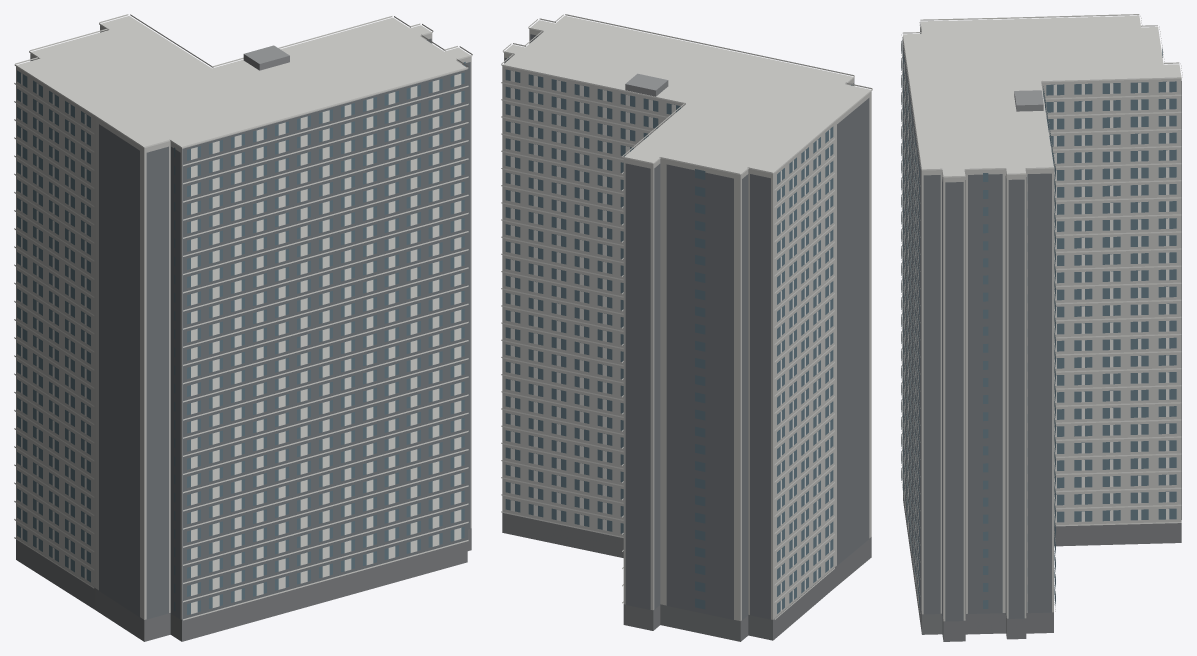
Rendered from representative-a10023352.glb.
3 renders of one model, left to right at view 1: azimuth 30°, elevation 25°; view 2: azimuth 150°, elevation 25°; view 3: azimuth 270°, elevation 25°, orthographic. The views are drawn at different scales.
Visible parts, largest first — view 1: A10023352_accent001, A10023352_wall001, A10023352_trim001, A10023352_glass001, A10023352_base001, A10023352_roof001; view 2: A10023352_wall001, A10023352_accent001, A10023352_glass001, A10023352_trim001, A10023352_base001, A10023352_roof001; view 3: A10023352_wall001, A10023352_accent001, A10023352_glass001, A10023352_trim001, A10023352_base001, A10023352_roof001.
Part boxes in pixels (x1=…): A10023352_accent001: x1=30, y1=31, x2=470, y2=619; A10023352_wall001: x1=16, y1=16, x2=471, y2=619; A10023352_trim001: x1=14, y1=14, x2=472, y2=620; A10023352_glass001: x1=17, y1=62, x2=465, y2=614; A10023352_base001: x1=16, y1=528, x2=471, y2=641; A10023352_roof001: x1=243, y1=45, x2=289, y2=70; A10023352_wall001: x1=502, y1=16, x2=871, y2=620; A10023352_accent001: x1=504, y1=34, x2=869, y2=620; A10023352_glass001: x1=505, y1=57, x2=851, y2=613; A10023352_trim001: x1=501, y1=14, x2=872, y2=619; A10023352_base001: x1=502, y1=513, x2=871, y2=641; A10023352_roof001: x1=625, y1=73, x2=668, y2=96; A10023352_wall001: x1=903, y1=15, x2=1181, y2=621; A10023352_accent001: x1=902, y1=28, x2=1181, y2=621; A10023352_glass001: x1=901, y1=41, x2=1176, y2=610; A10023352_trim001: x1=901, y1=14, x2=1182, y2=613; A10023352_base001: x1=903, y1=490, x2=1181, y2=641; A10023352_roof001: x1=1014, y1=90, x2=1043, y2=111.
Bounding box in the file's own units: 67.49 × 91.2 × 49.43.
